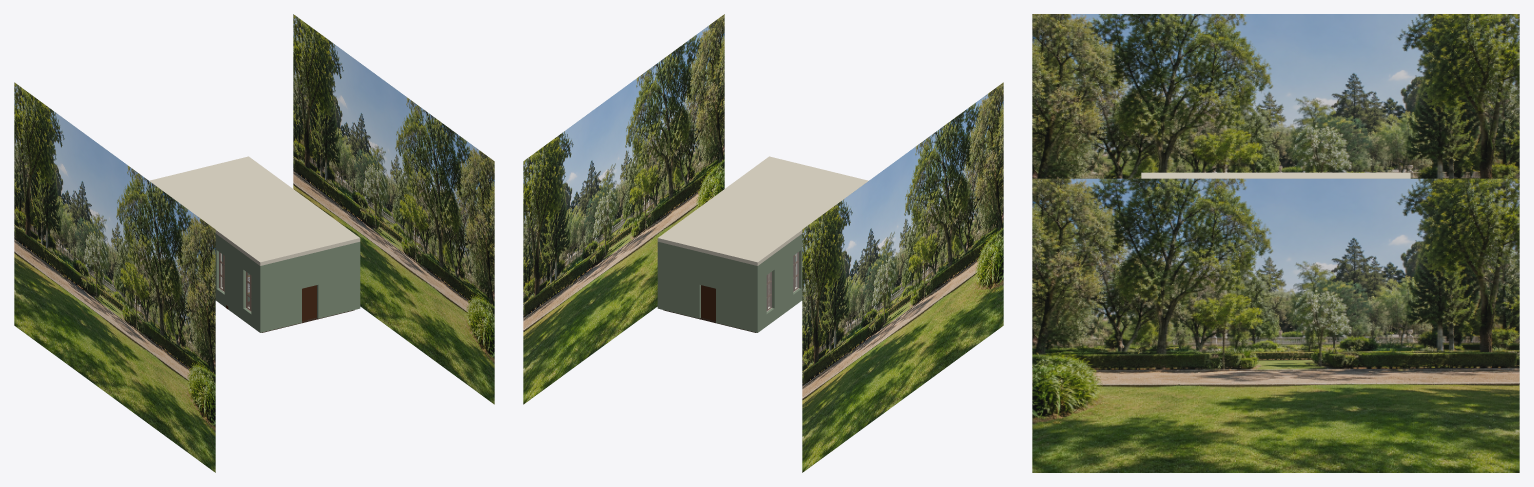
File: munal_gallery_daylight.glb
3 renders of one model, left to right at view 1: azimuth 30°, elevation 25°; view 2: azimuth 150°, elevation 25°; view 3: azimuth 270°, elevation 25°, orthographic. The views are drawn at different scales.
Visible parts, largest first — view 1: Garden_-1, Garden_1, Architecture_Room, Door_Previous; view 2: Garden_-1, Garden_1, Architecture_Room, Door_Next; view 3: Garden_1, Garden_-1, Architecture_Room.
Boxes of the visible parts, <box> form: Garden_-1: <box>14,82,215,472</box>; Garden_1: <box>293,14,494,404</box>; Architecture_Room: <box>149,156,360,332</box>; Door_Previous: <box>302,285,316,320</box>; Garden_-1: <box>802,82,1003,472</box>; Garden_1: <box>523,14,724,404</box>; Architecture_Room: <box>657,156,868,332</box>; Door_Next: <box>701,285,715,320</box>; Garden_1: <box>1032,178,1519,472</box>; Garden_-1: <box>1032,14,1519,178</box>; Architecture_Room: <box>1141,172,1410,178</box>.
Size of what is drawn, in the model's own units: 24 by 20 by 30.
Materials: 17 (10 with a texture image).
